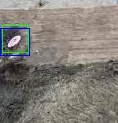text: (2, 25, 28, 52)
